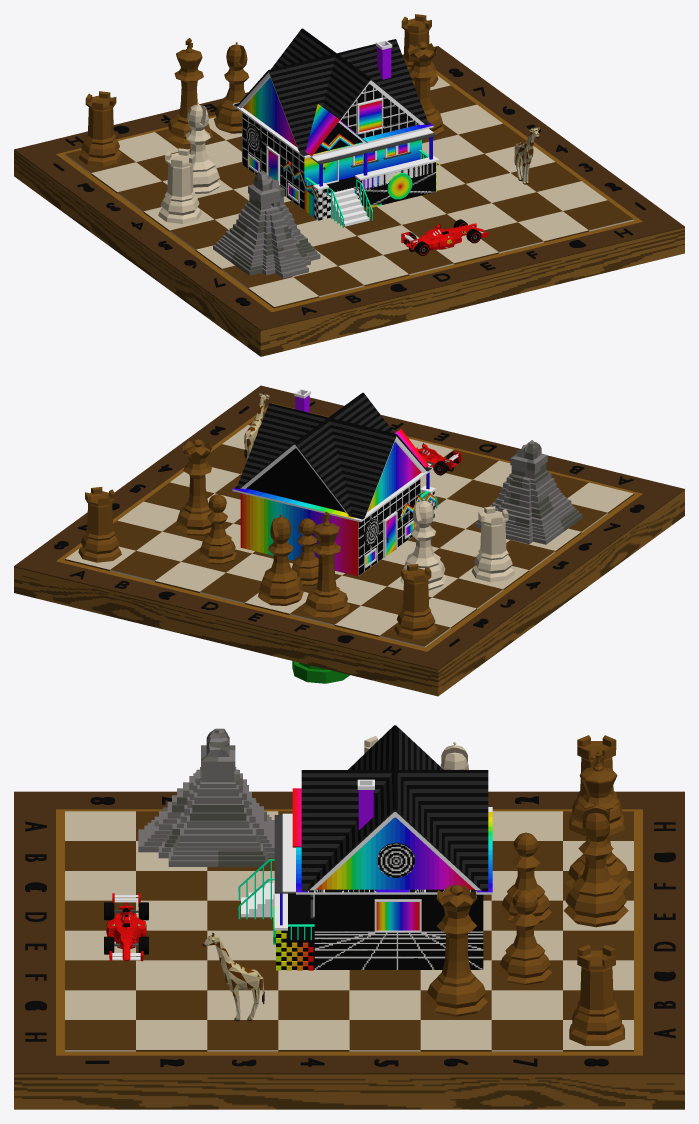
3 renders of one model, top to bottom at view 1: azimuth 30°, elevation 25°; view 2: azimuth 150°, elevation 25°; view 3: azimuth 270°, elevation 25°, orthographic. The views are drawn at different scales.
Visible parts, largest first — view 1: Cube.002, Cube.1320, OBJRANDOM_GRAN_JAGUAR, VEHICLES_FORMULA_1, ANIMAL_JIRAFA; view 2: Cube.002, Cube.1320, OBJRANDOM_GRAN_JAGUAR, UNDERGROUND_PIPES, VEHICLES_FORMULA_1, ANIMAL_JIRAFA; view 3: Cube.002, Cube.1320, OBJRANDOM_GRAN_JAGUAR, VEHICLES_FORMULA_1, ANIMAL_JIRAFA.
Boxes of the visible parts, box(x1,y1,x2,y2) form: Cube.002: box(14, 14, 684, 356); Cube.1320: box(232, 28, 438, 227); OBJRANDOM_GRAN_JAGUAR: box(213, 171, 320, 278); VEHICLES_FORMULA_1: box(401, 219, 488, 255); ANIMAL_JIRAFA: box(514, 126, 539, 184); Cube.002: box(14, 385, 684, 696); Cube.1320: box(232, 389, 437, 576); OBJRANDOM_GRAN_JAGUAR: box(475, 440, 582, 544); UNDERGROUND_PIPES: box(292, 661, 349, 683); VEHICLES_FORMULA_1: box(416, 443, 461, 475); ANIMAL_JIRAFA: box(244, 393, 269, 460); Cube.002: box(14, 735, 684, 1109); Cube.1320: box(238, 725, 492, 970); OBJRANDOM_GRAN_JAGUAR: box(138, 728, 274, 866); VEHICLES_FORMULA_1: box(104, 893, 148, 961); ANIMAL_JIRAFA: box(202, 932, 264, 1021).
Bounding box in the file's own units: 3981 × 2068 × 4012.
Materials: 34 (4 with a texture image).
